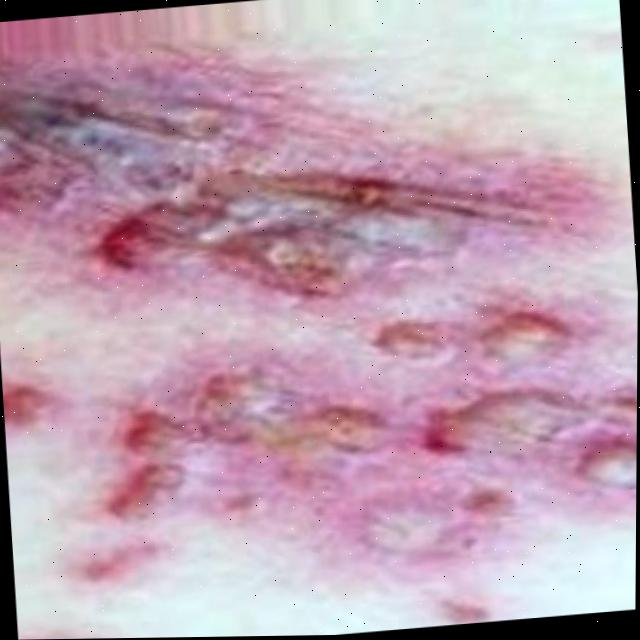Shingles: (0, 16, 640, 640)
